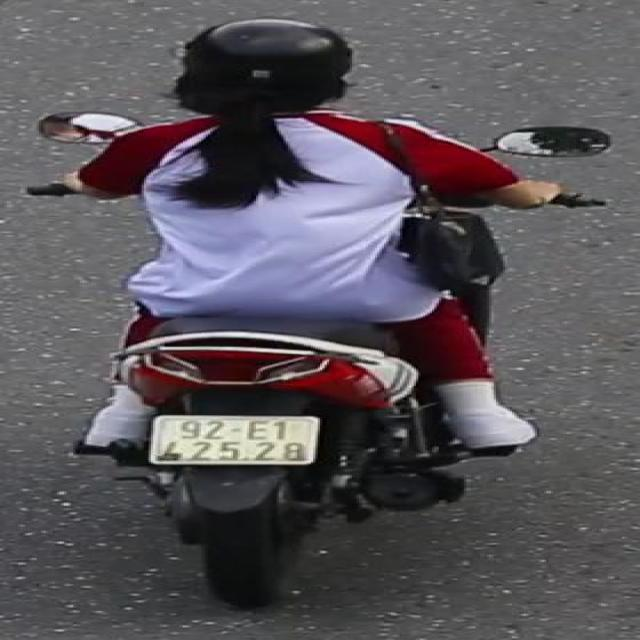LP: (146, 408, 326, 468)
helmet: (170, 17, 363, 126)
